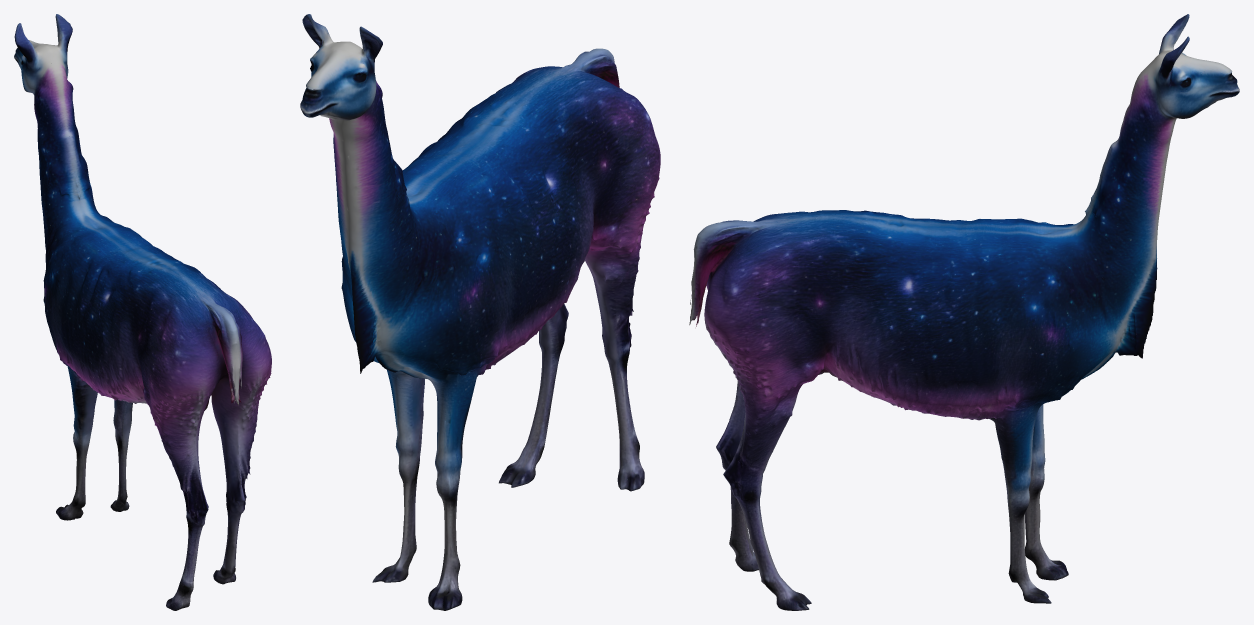
Rendered from lama_galaxy.glb.
3 views of the same model, side by side, from view 1: azimuth 30°, elevation 25°; view 2: azimuth 150°, elevation 25°; view 3: azimuth 270°, elevation 25° (orthographic). The views are drawn at different scales.
Parts seen in each view (by area): view 1: tripo_node_23cd5a43-dbe2-445e-b329-a4659b682296; view 2: tripo_node_23cd5a43-dbe2-445e-b329-a4659b682296; view 3: tripo_node_23cd5a43-dbe2-445e-b329-a4659b682296.
Part boxes in pixels (x1,y1,x2,y2): tripo_node_23cd5a43-dbe2-445e-b329-a4659b682296: (14,14,271,610); tripo_node_23cd5a43-dbe2-445e-b329-a4659b682296: (300,14,660,610); tripo_node_23cd5a43-dbe2-445e-b329-a4659b682296: (689,14,1239,610).
Size of the model in its own units: 0.2602 by 1 by 0.8854.
1 material, 1 textured.
